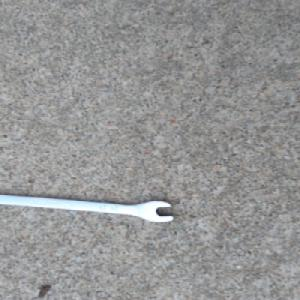Wrench: (0, 193, 176, 223)
